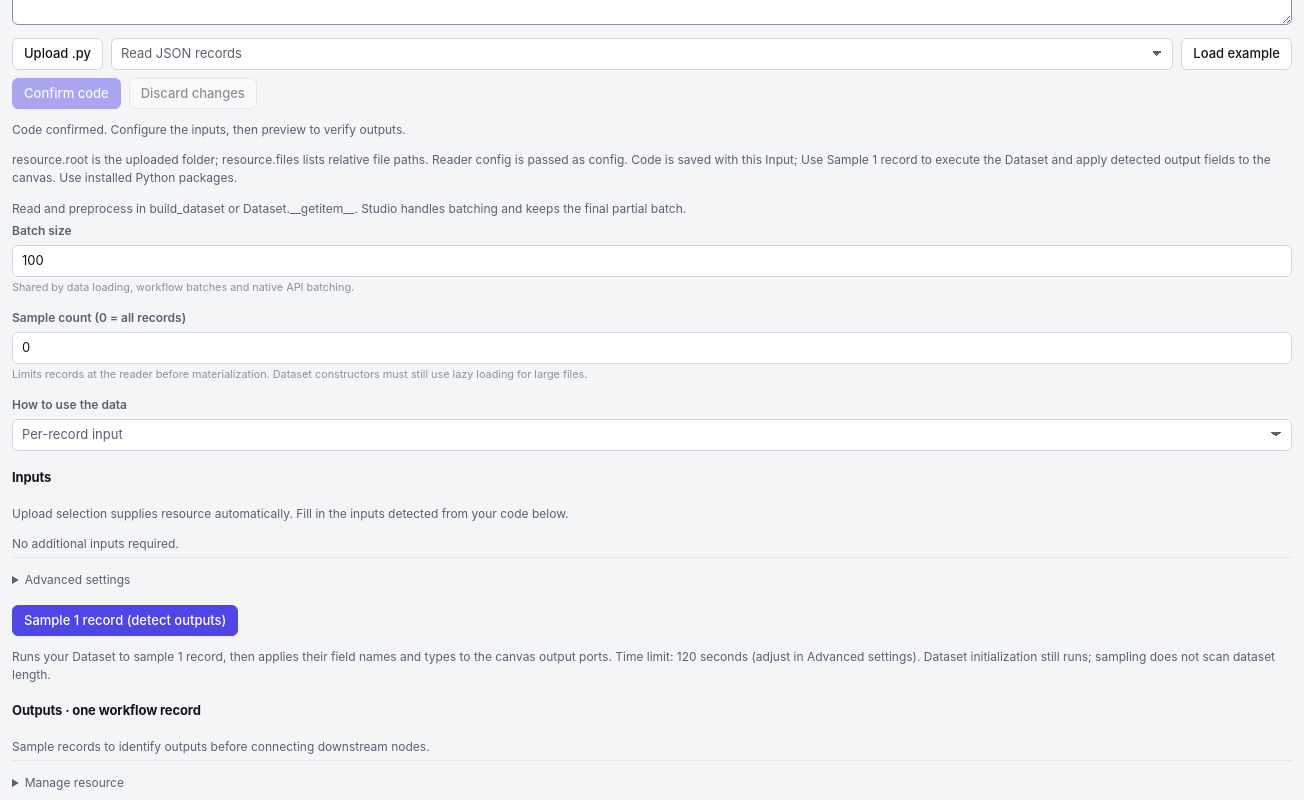
Test case: offers sampling without requiring an output declaration or a static output action
(page scrolled)
Click the button "Sample 1 record (detect outputs)".
click(125, 620)  # box top-left (12, 605), bottom-right (238, 636)
(page scrolled)
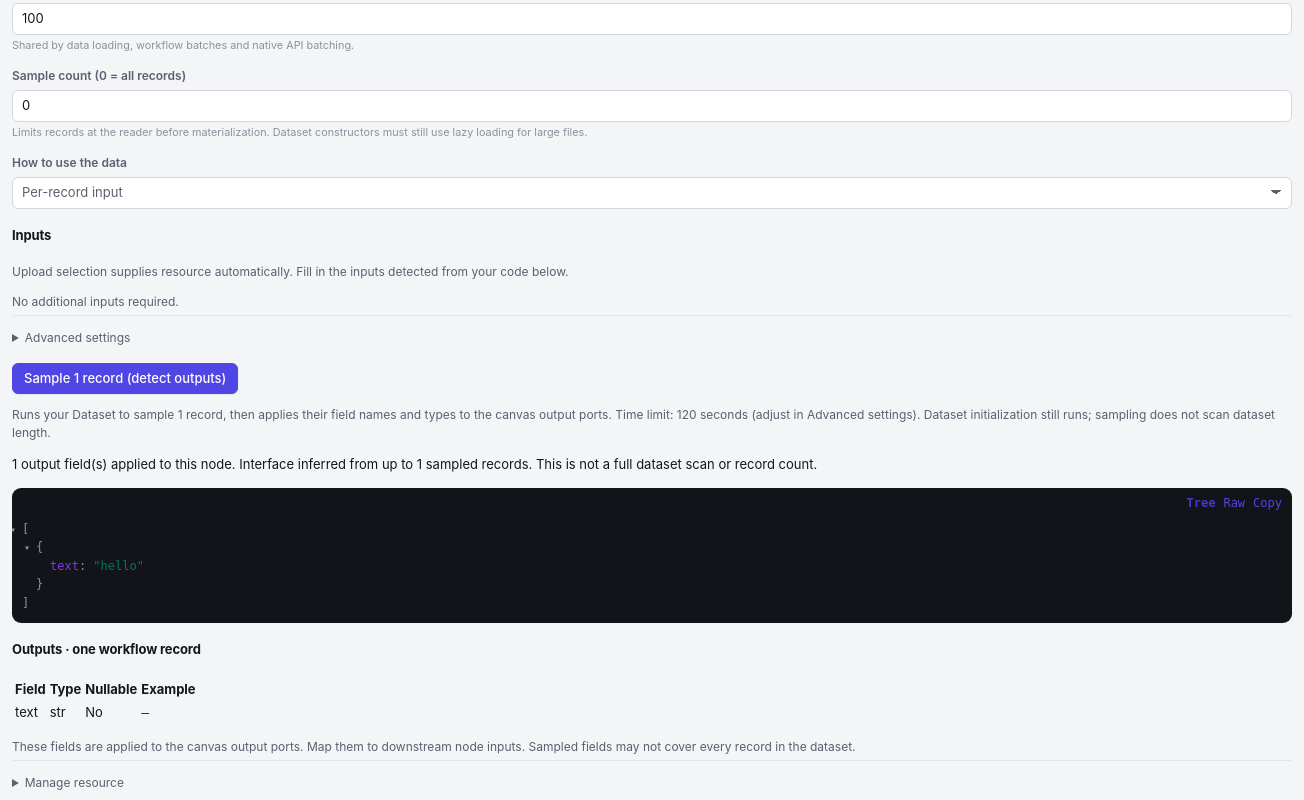
Expected: the cell "text" is shown, top-left (14, 702), bottom-right (47, 724)
